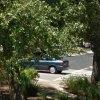Tree: (1, 0, 81, 55)
